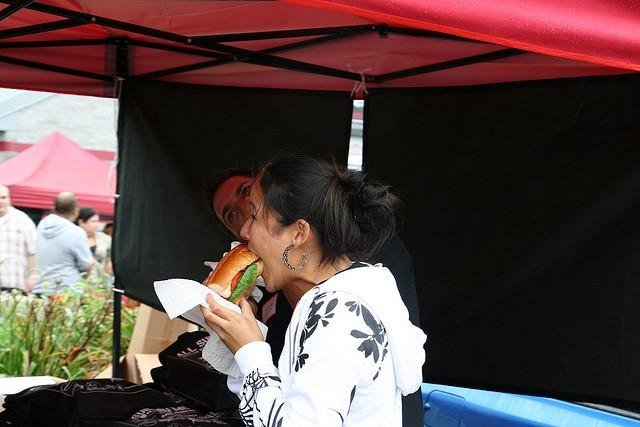lettuce: (227, 262, 257, 302)
